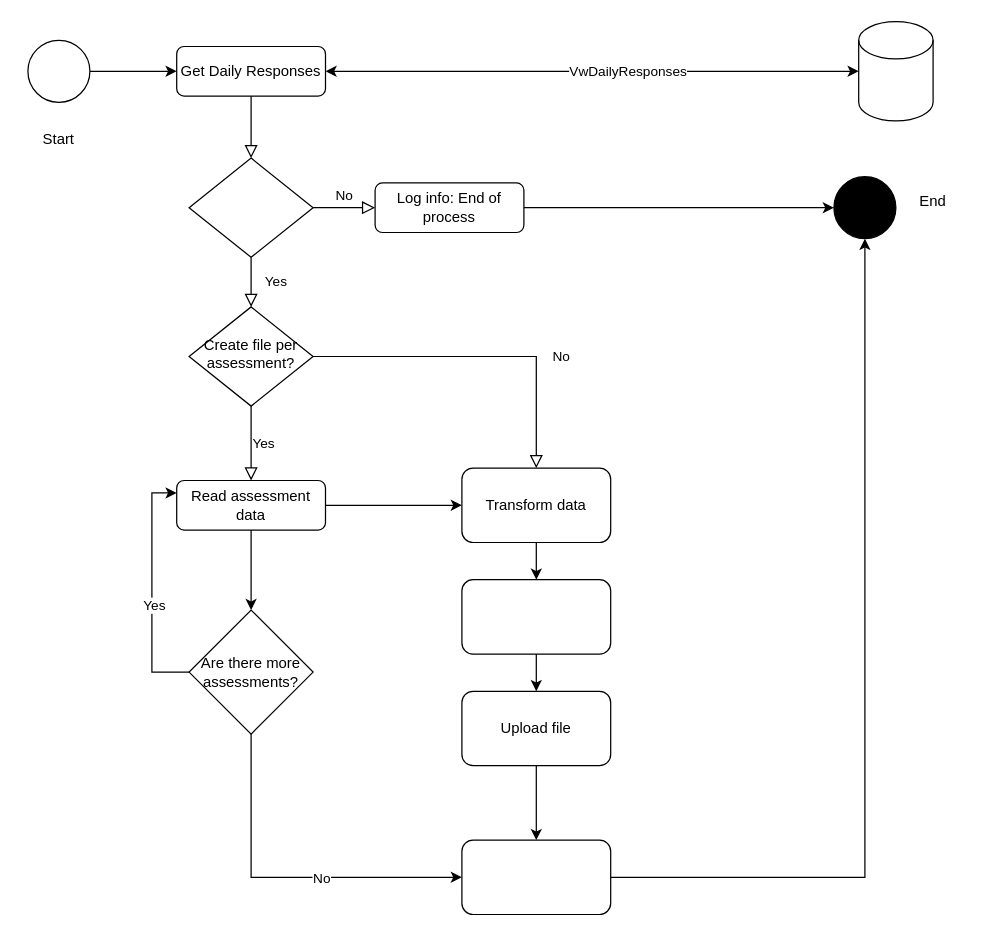
This 991x936 diagram has some shape labels left out. The centre of each missing label's shape, as x and y in pixels:
"Create file content" goes at (x=536, y=616).
"Daily Responses > 0" goes at (x=250, y=207).
"Log info: Information processed successfully" goes at (x=536, y=876).
"VAMA" goes at (x=895, y=70).
